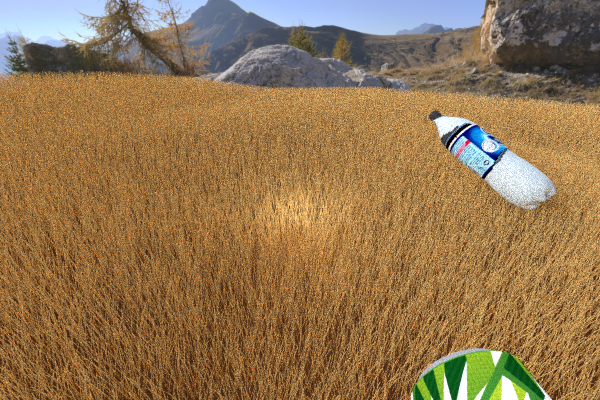bottle: (428, 110, 556, 210)
can: (410, 348, 600, 400)
